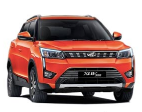car: (5, 12, 136, 104)
